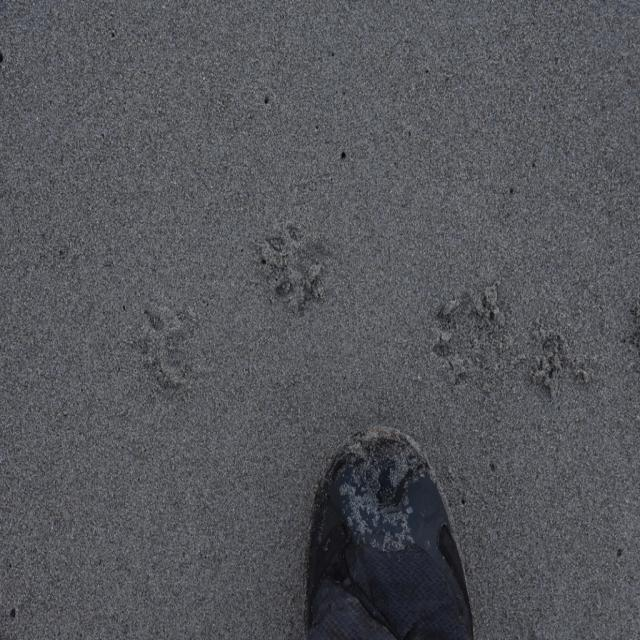mustelid: (435, 294, 514, 394), (260, 223, 343, 316), (136, 304, 207, 386)
